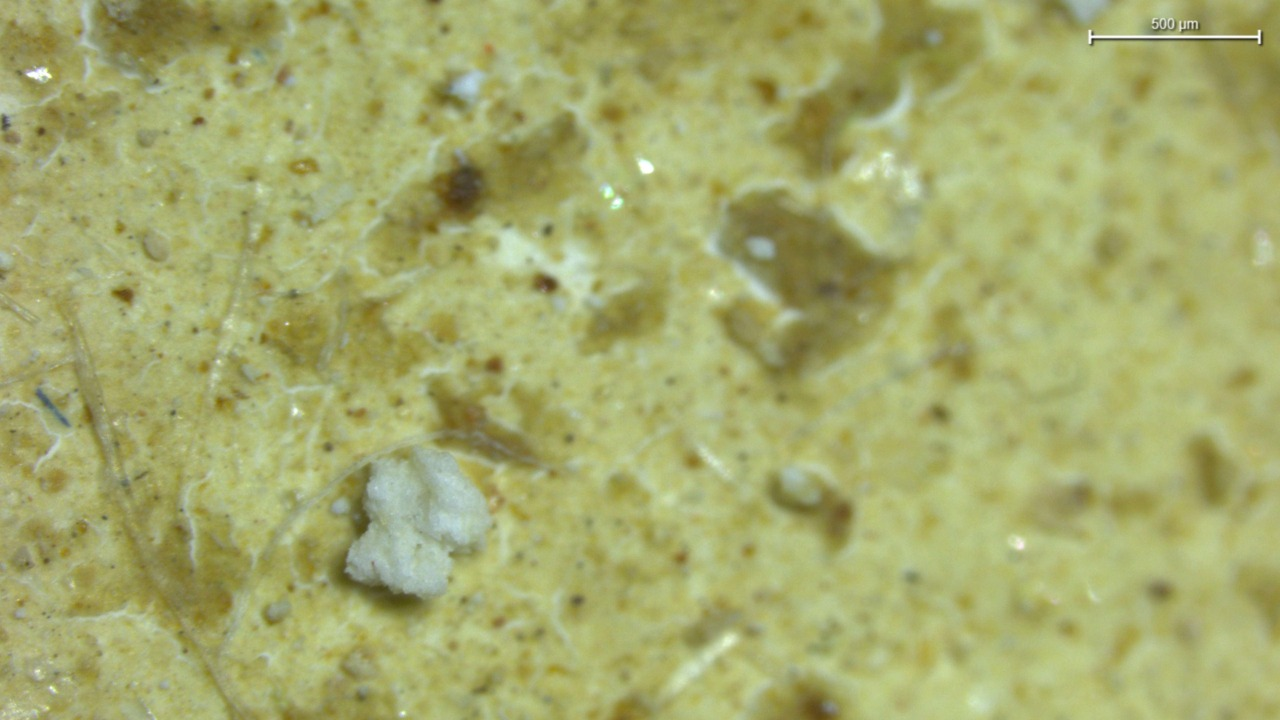microplastic_fragment: (345, 445, 491, 597), (447, 70, 485, 103)
